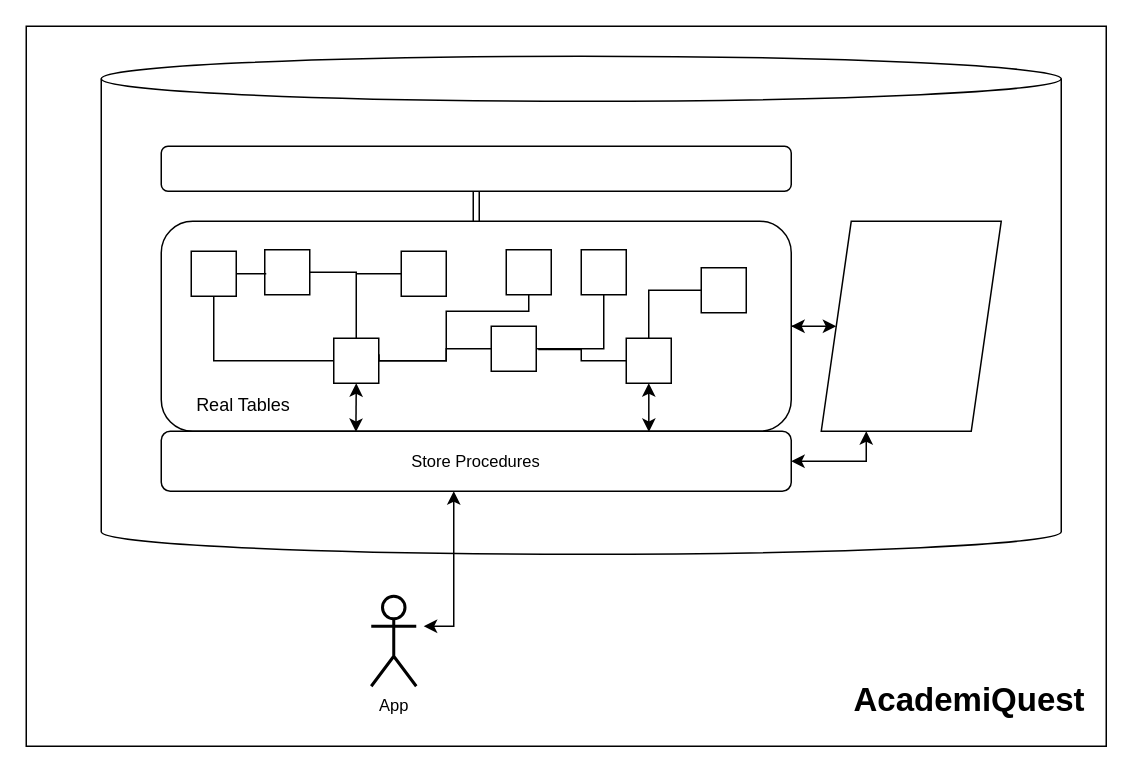
Some shapes in this 1133 by 773 pixel diagram are drawn without their labels. The centre of each missing label's shape, as x and y in pixels:
Triggers / Indexes: point (475, 168)
UDFs: point (910, 325)
